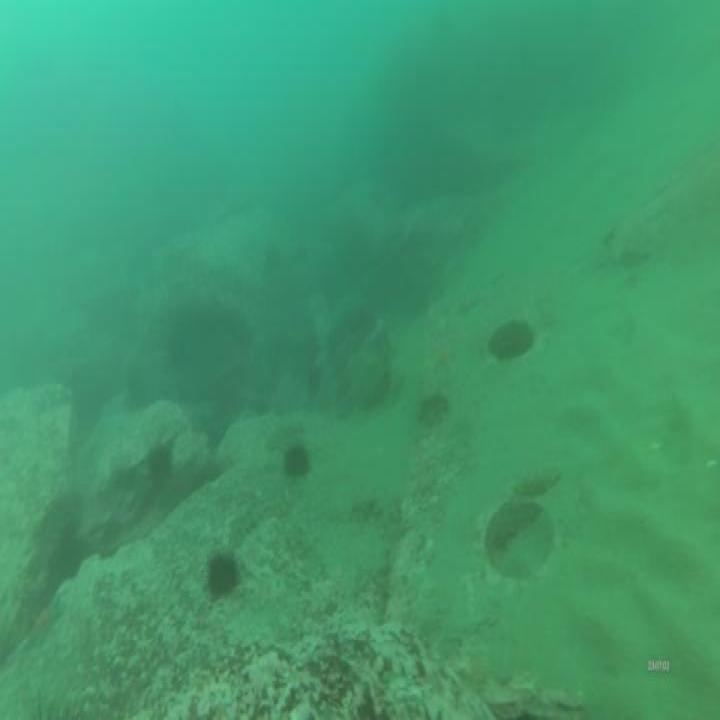echinus: (204, 544, 240, 606), (279, 434, 315, 487), (148, 436, 172, 490)
